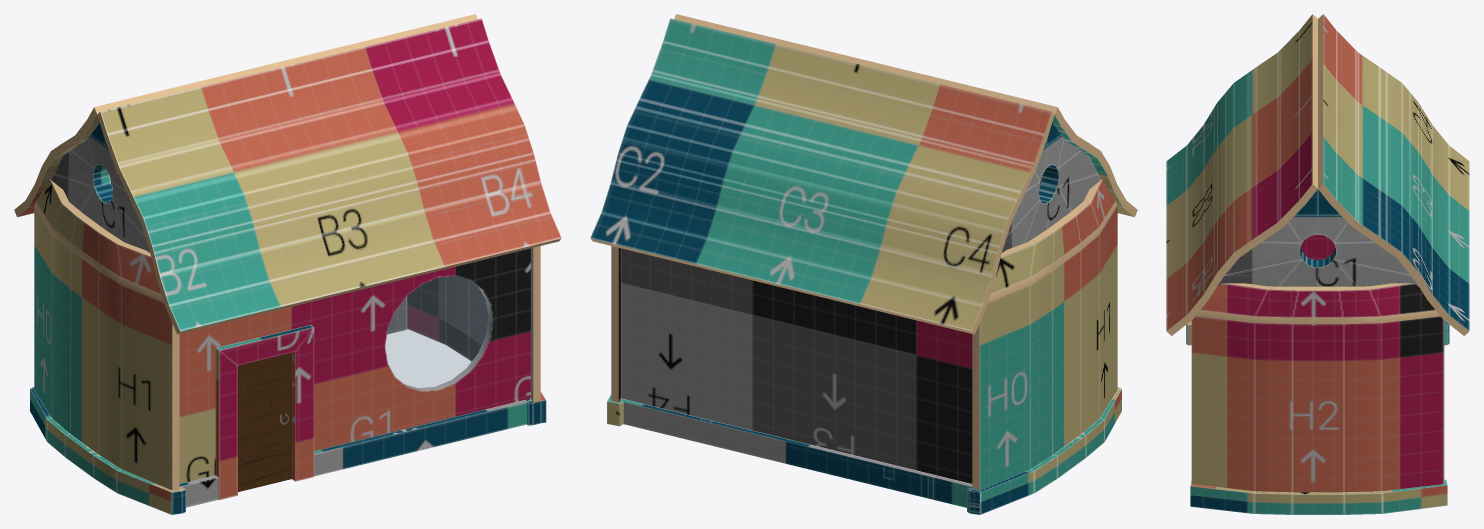
File: ArtisianCabinModel.fbx
3 renders of one model, left to right at view 1: azimuth 30°, elevation 25°; view 2: azimuth 150°, elevation 25°; view 3: azimuth 270°, elevation 25°, orthographic. The views are drawn at different scales.
Parts seen in each view (by area): view 1: ArtisanCabinModel, ArtisianCabinDoor; view 2: ArtisanCabinModel; view 3: ArtisanCabinModel.
Part boxes in pixels (box(x1,y1,x2,y2)): ArtisanCabinModel: box(14, 14, 561, 514); ArtisianCabinDoor: box(238, 352, 291, 491); ArtisanCabinModel: box(590, 14, 1137, 514); ArtisanCabinModel: box(1166, 14, 1469, 514).
Size of the model in its own units: 579 by 472 by 401.
